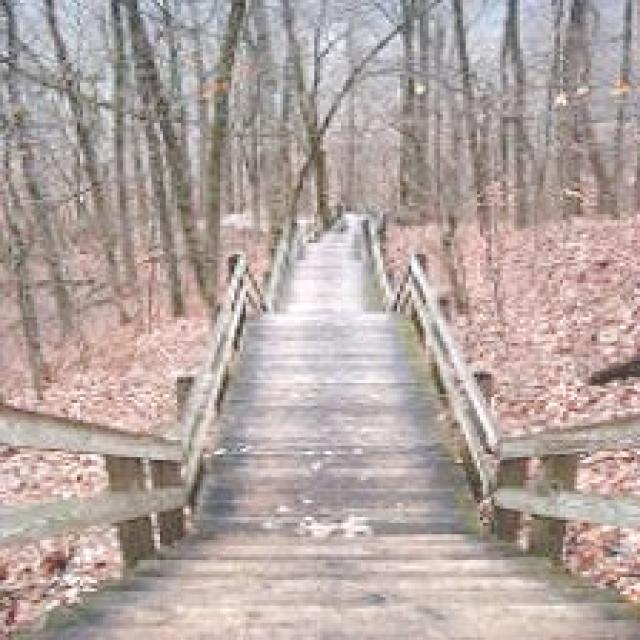downstair: (147, 501, 578, 640)
